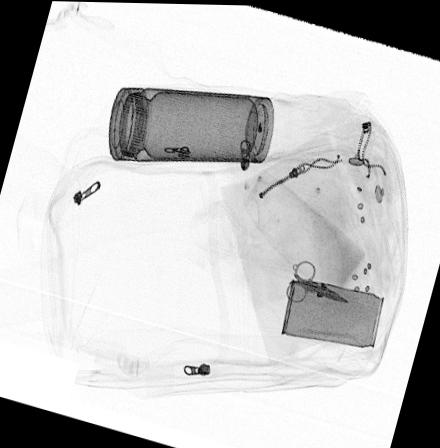Scissors: (284, 258, 350, 304)
